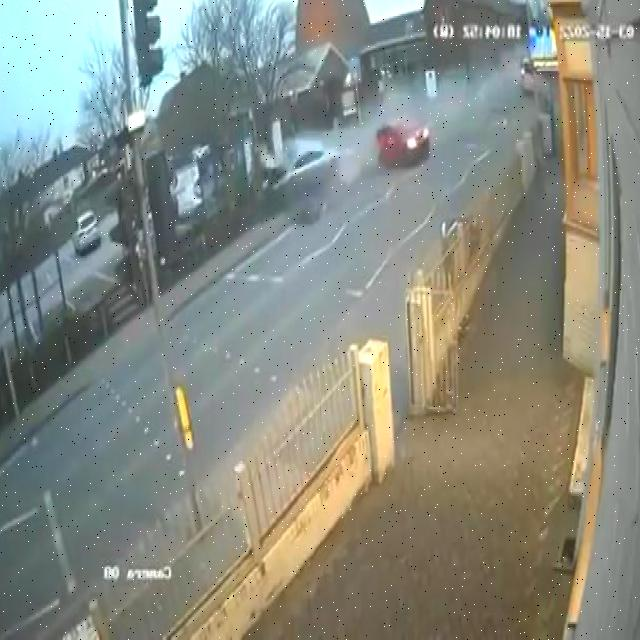accident: (254, 100, 438, 216)
